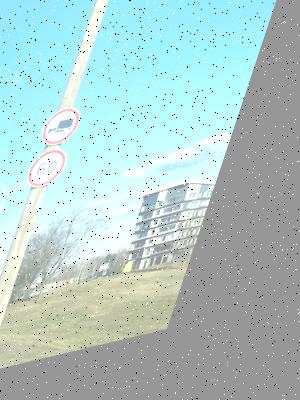Speed Limit -60-: (34, 150, 83, 195)
